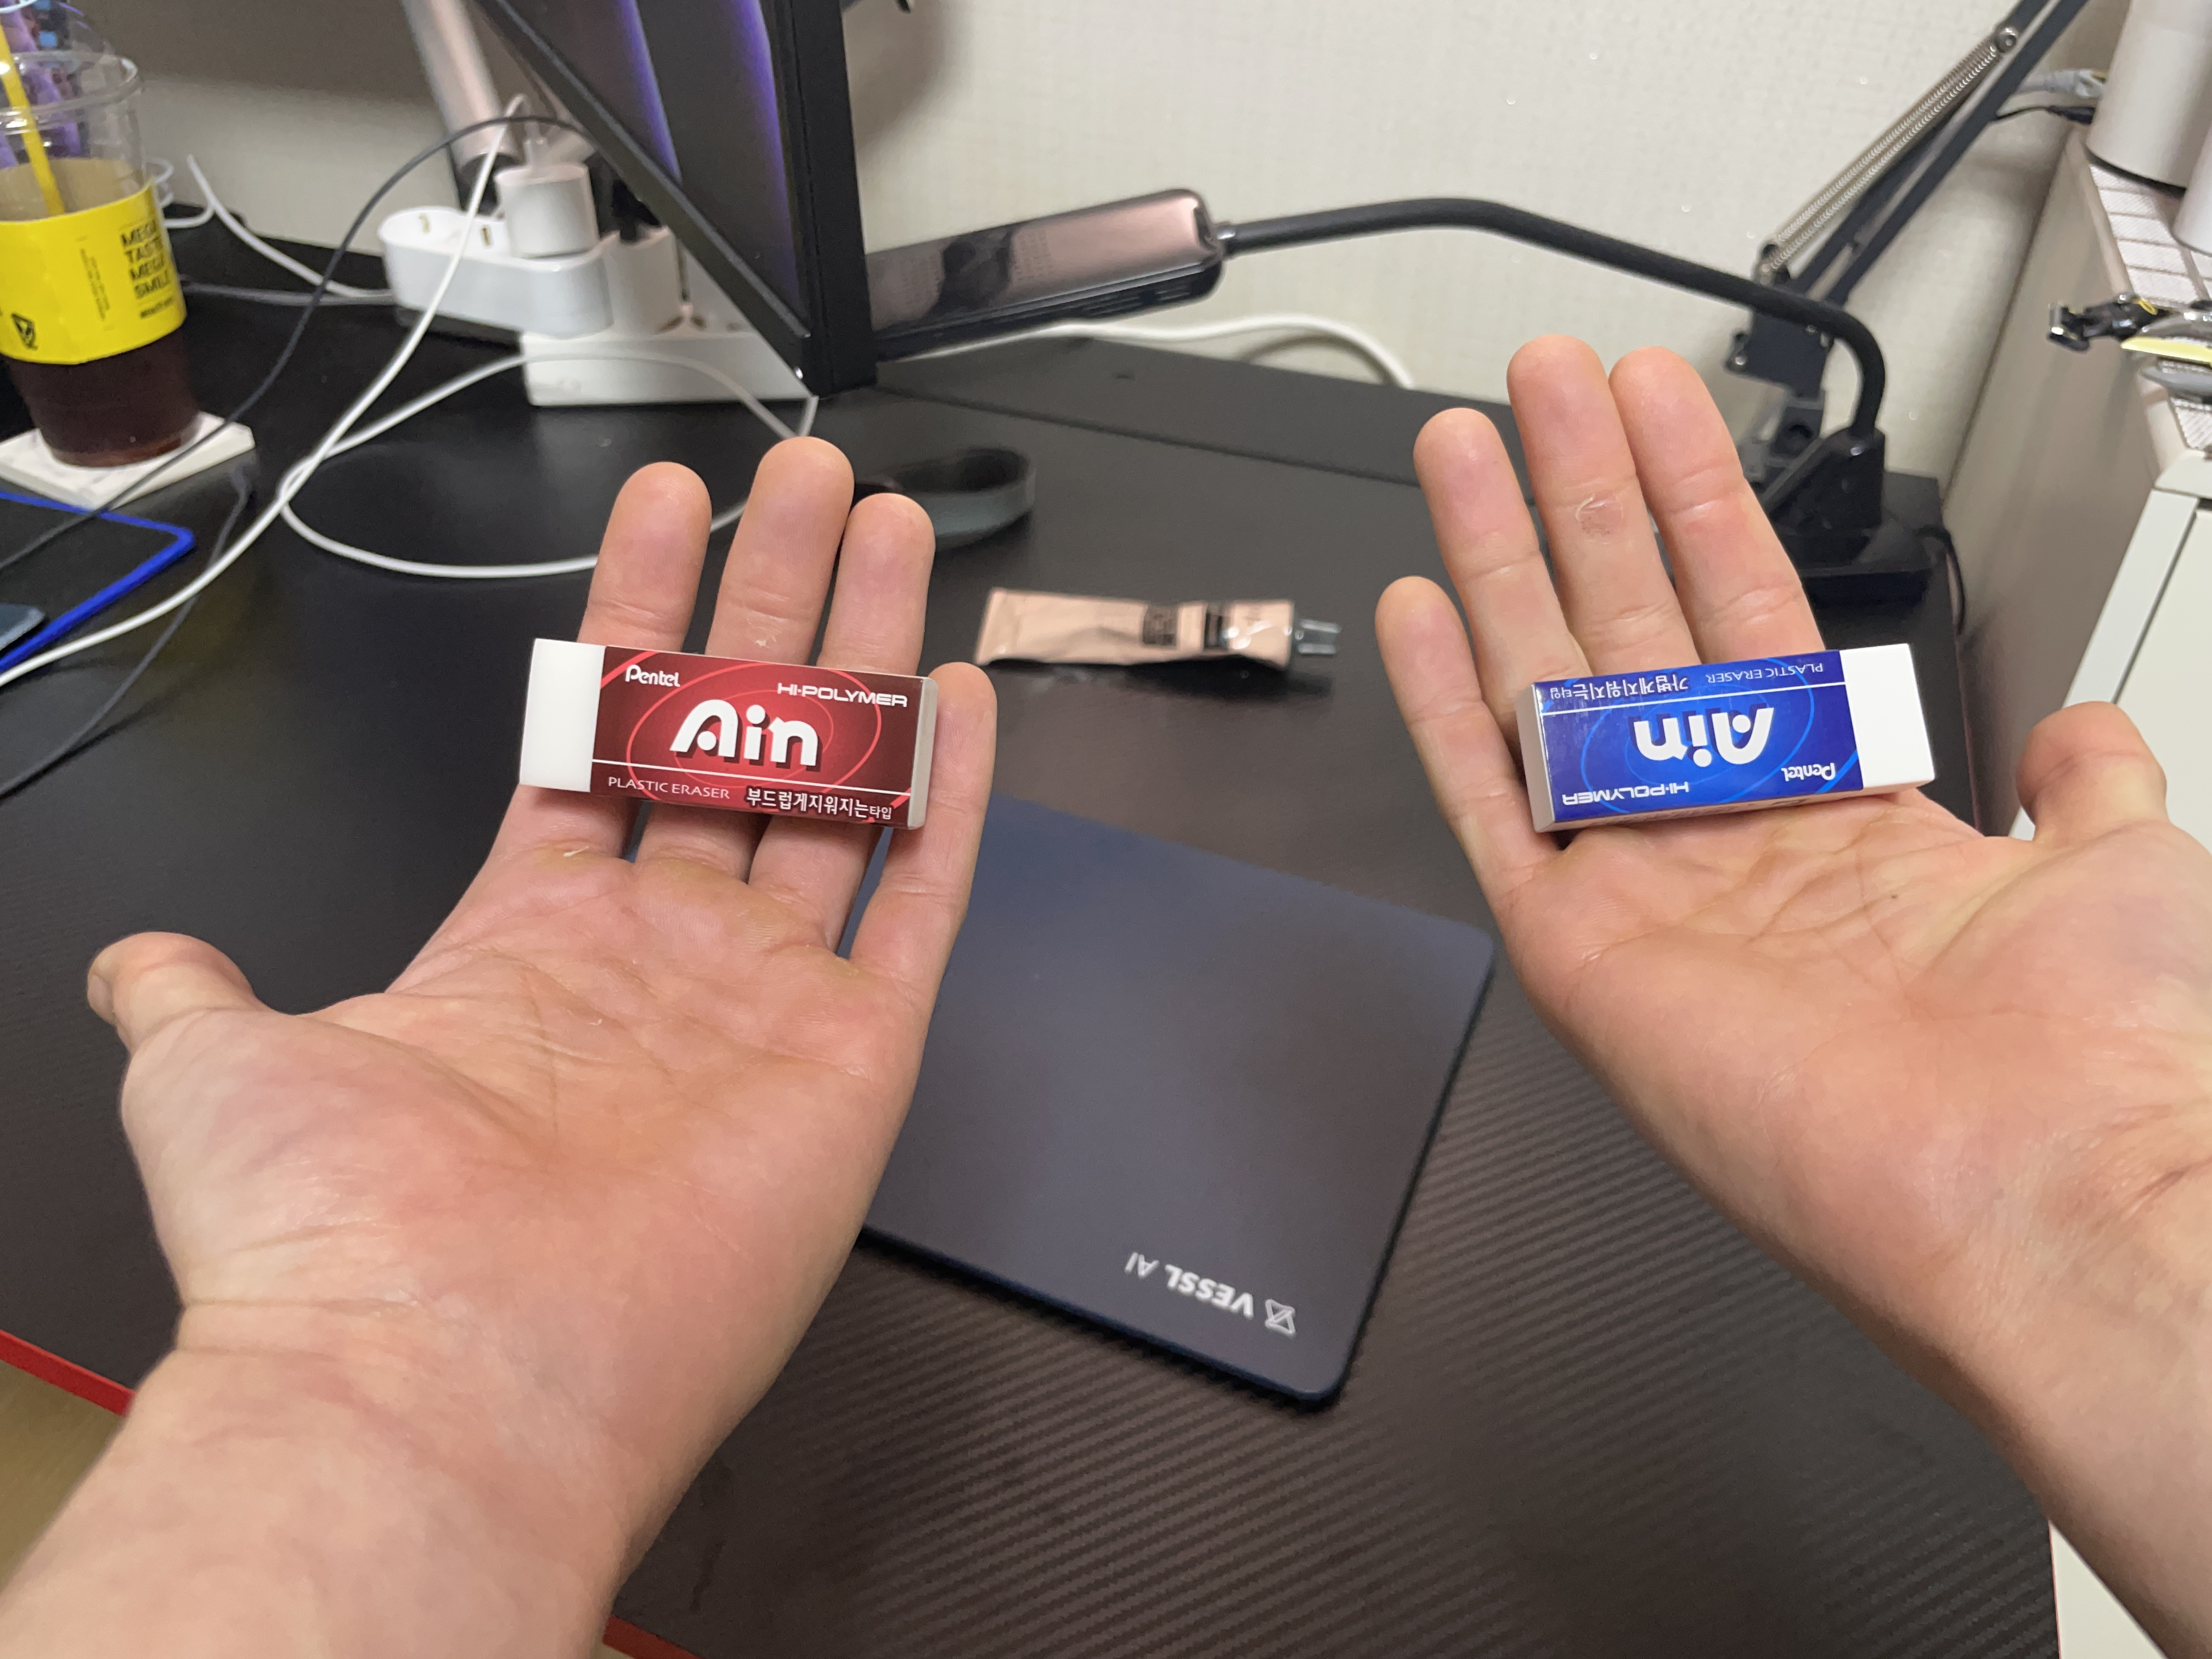blue: (1487, 608, 1956, 849)
red: (491, 584, 998, 868)
